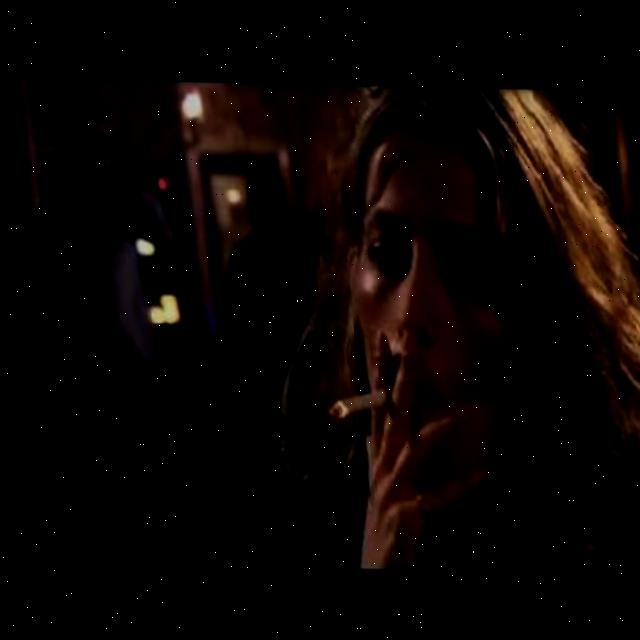cigarette: (314, 384, 388, 421)
